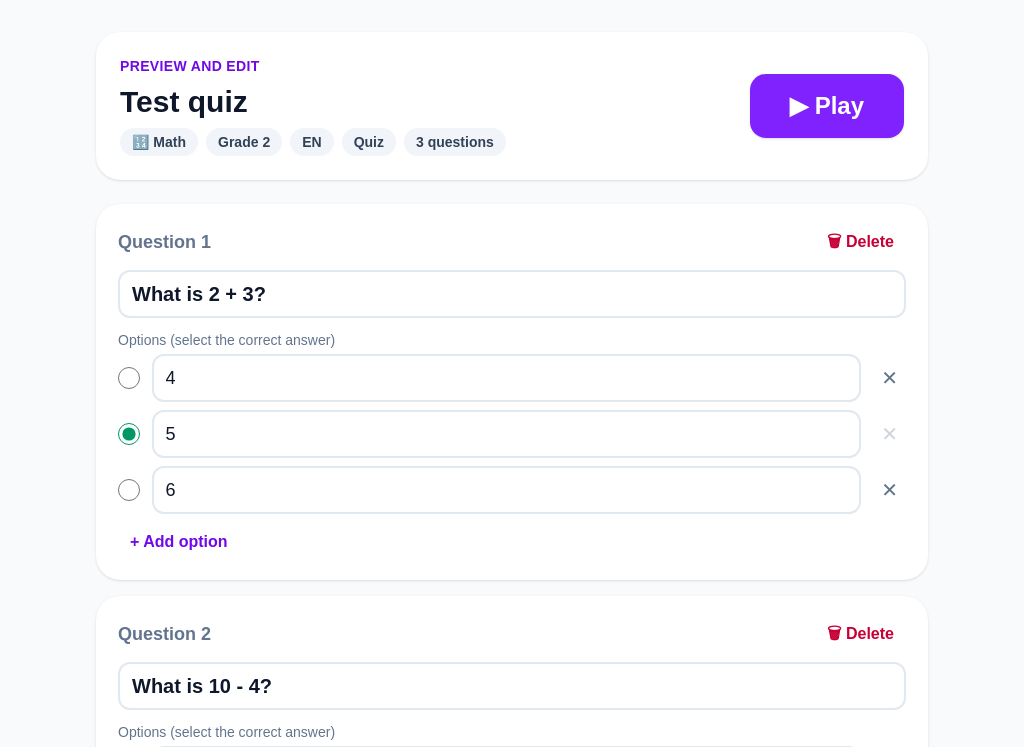
Test: GameFlow › keeps edits when the teacher exits the game back to the preview
Click the button with aria-label "Delete question 1" at (861, 242), box [815,226,906,258]
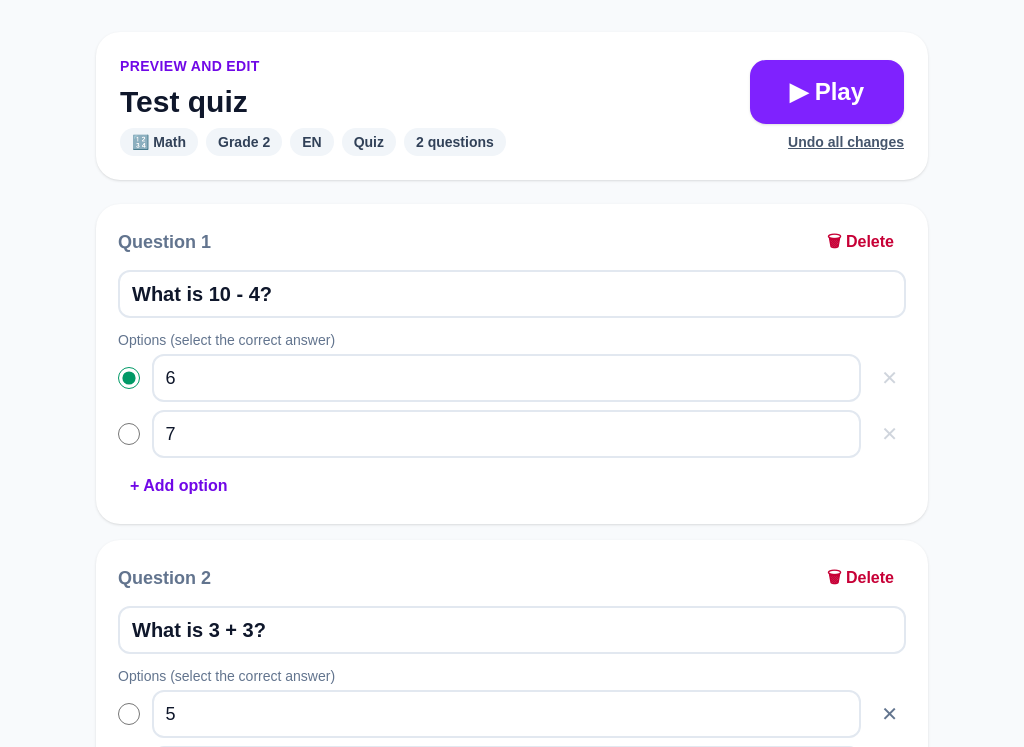
Click the button "▶ Play" at (827, 92), box [750,60,904,124]
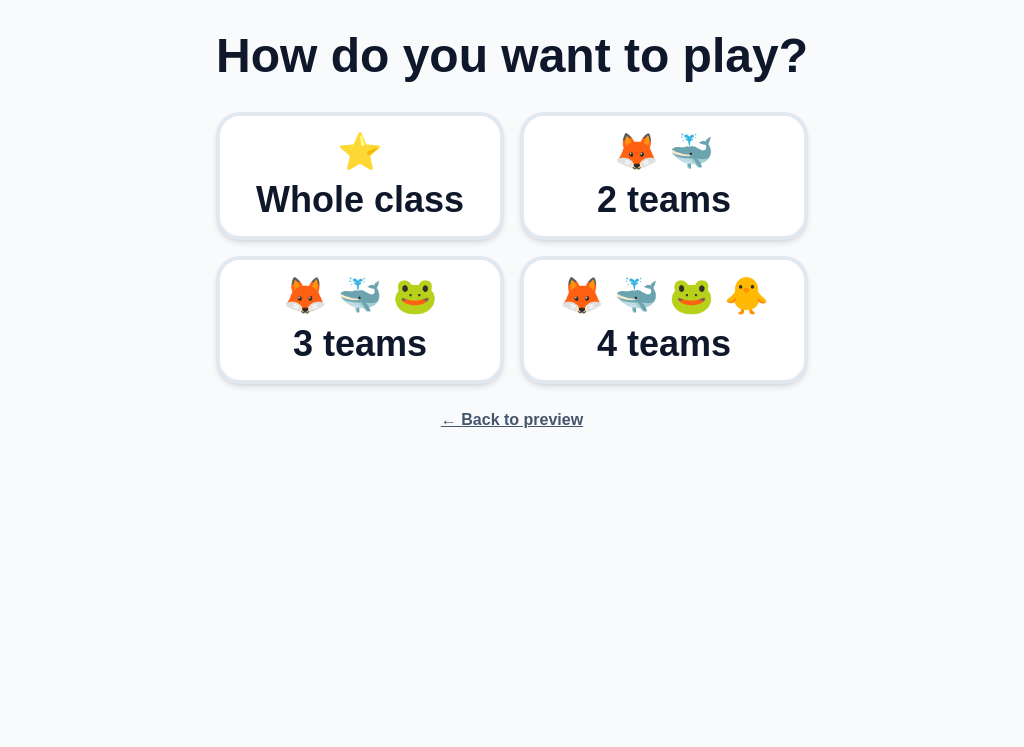
Click the button "⭐ Whole class" at (360, 176), box [216,112,504,240]
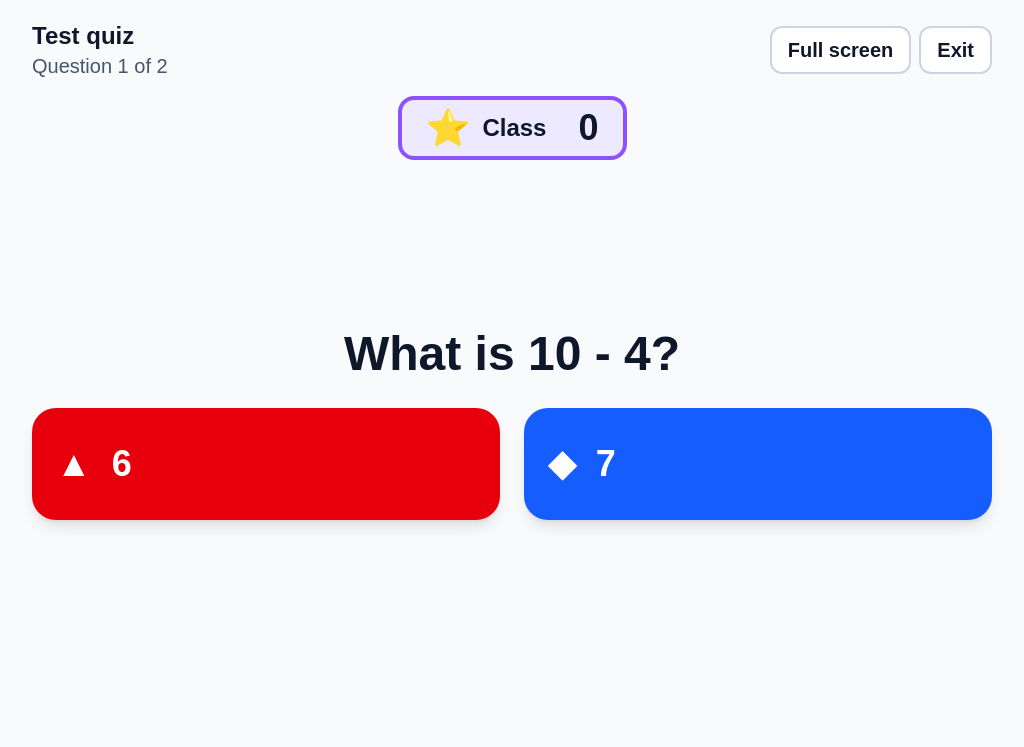
Click the button "Exit" at (956, 50), box [919,26,992,74]
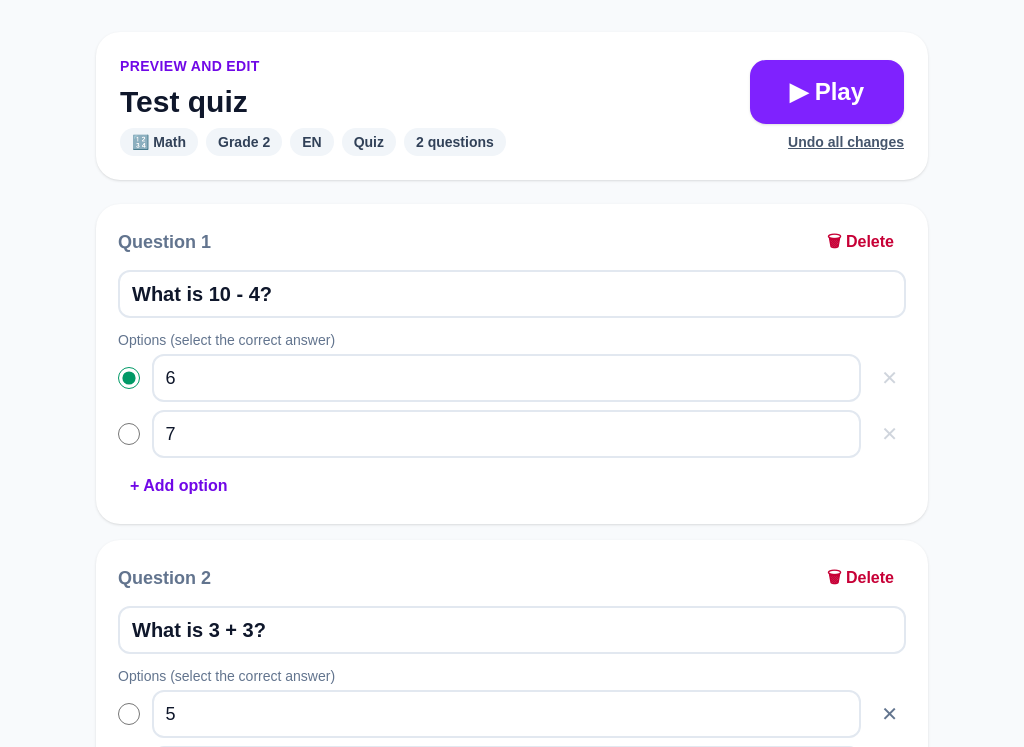
Result: the button "Undo all changes" is shown at [788,132,904,152]
